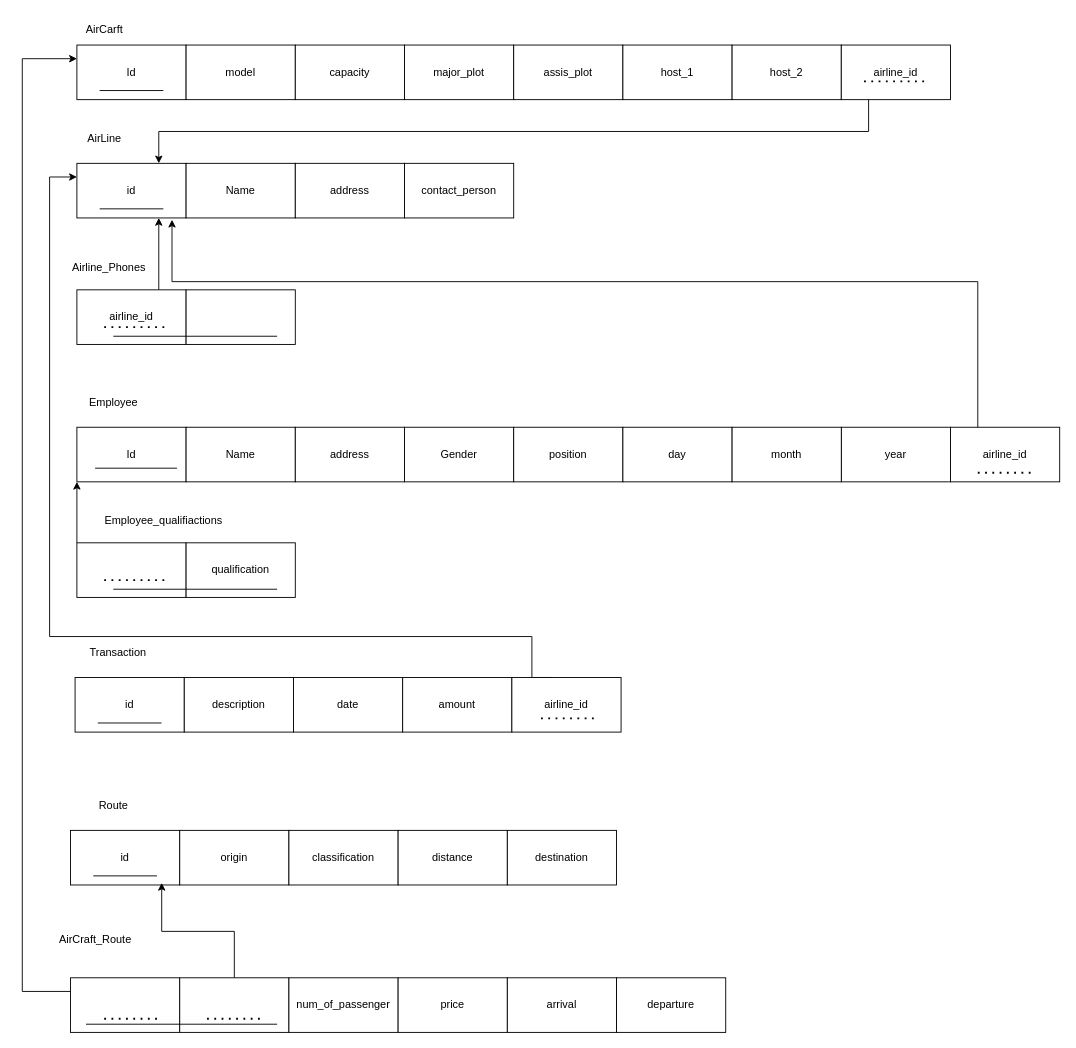
This 1076x1048 diagram has some shape labels left out. Here are the shapes that lost their labels. From the top down, the centre of each, then its label:
the point at 240,316: phone
the point at 131,569: emp_id
the point at 125,1004: aircarft_id
the point at 234,1004: route_id
